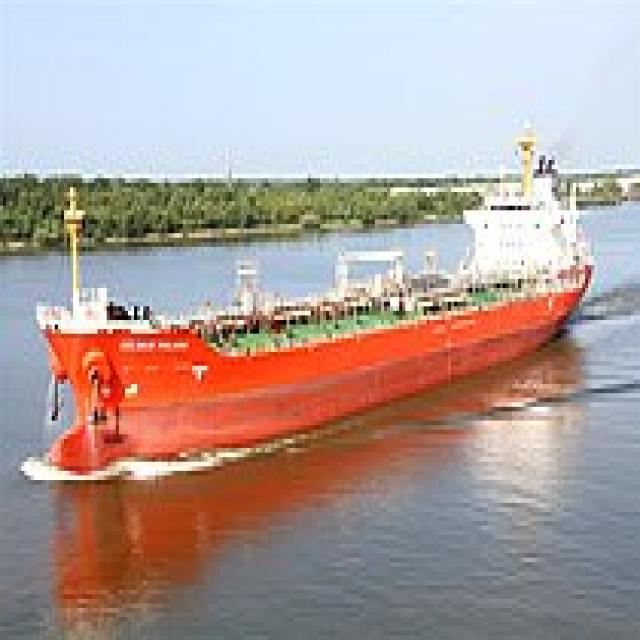Tanker: (28, 105, 592, 476)
